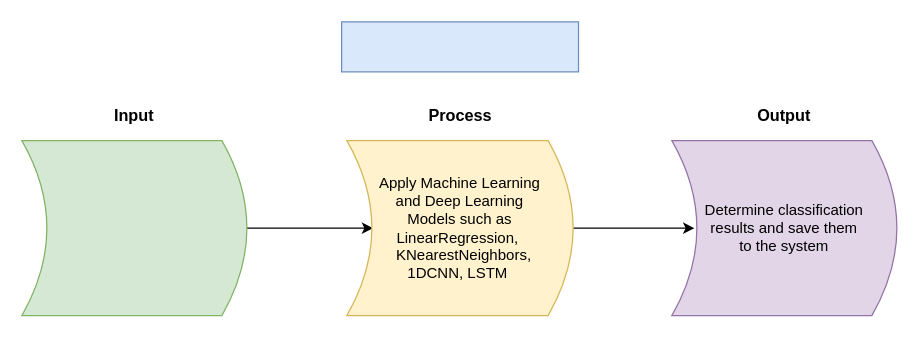
Some shapes in this 919 by 338 pixel diagram are drawn without their labels. Here are the shapes that lost their labels. From the top down, the centre of each, then its label:
At (x=459, y=46): "Classification".
At (x=134, y=227): "Modified data after preprocessing".
